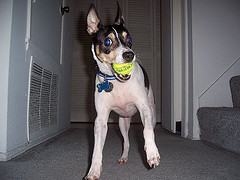tennis ball: (111, 60, 136, 75)
